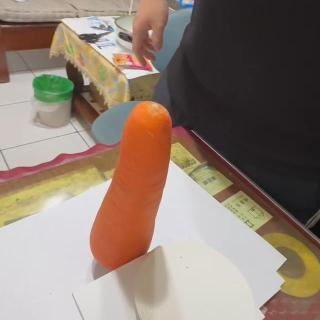carrot: (88, 99, 174, 271)
